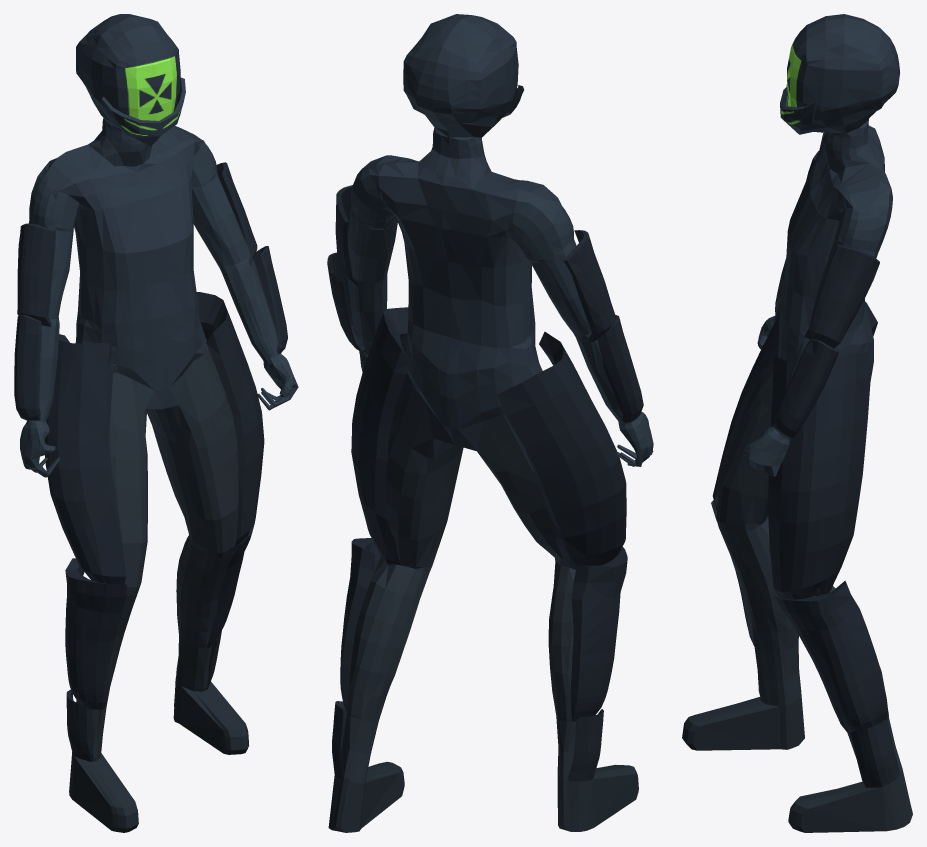
Rendered from Bastion_Stun_Recover_000010.obj.
3 views of the same model, side by side, from view 1: azimuth 30°, elevation 25°; view 2: azimuth 150°, elevation 25°; view 3: azimuth 270°, elevation 25° (orthographic). The views are drawn at different scales.
Parts seen in each view (by area): view 1: Cube.002; view 2: Cube.002; view 3: Cube.002.
Boxes of the visible parts, x1,y1,x2,y2 form: Cube.002: [14, 14, 298, 832]; Cube.002: [327, 14, 653, 832]; Cube.002: [682, 14, 912, 832].
Bounding box in the file's own units: 1.47 × 3.82 × 1.04.
